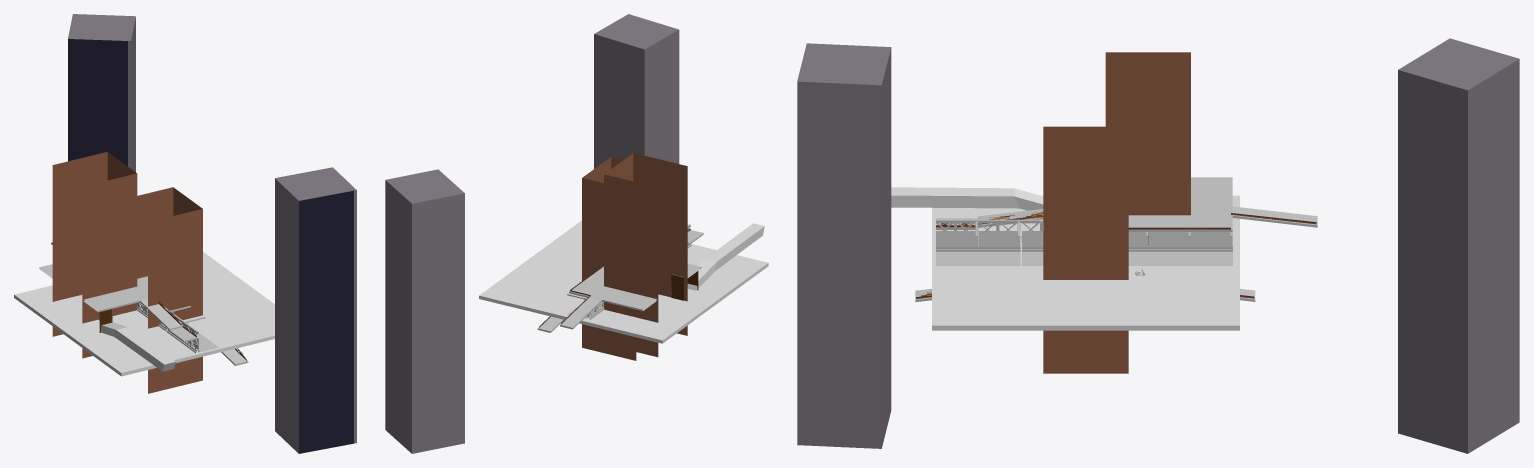
Rendered from bridgepiece.fbx.
3 renders of one model, left to right at view 1: azimuth 30°, elevation 25°; view 2: azimuth 150°, elevation 25°; view 3: azimuth 270°, elevation 25°, orthographic. The views are drawn at different scales.
Visible parts, largest first — view 1: Cube.018, Cube.020, Cube.019, Cube.011, Cube.017, Cube.003, path.009, path.008; view 2: Cube.011, Cube.020, Cube.018, Cube.019, Cube.017, path.009, Cube.003, path.007, Cube; view 3: Cube.011, Cube.018, Cube.019, Cube.017, Cube.020, path.009, Cube.003, path.007, road.005, road.006, road.003, road.002 (+3 smaller).
Boxes of the visible parts, bbox=[...] form: Cube.018: bbox=[275, 167, 356, 453]; Cube.020: bbox=[52, 152, 137, 358]; Cube.019: bbox=[14, 252, 274, 376]; Cube.011: bbox=[68, 14, 135, 172]; Cube.017: bbox=[137, 187, 202, 393]; Cube.003: bbox=[100, 322, 175, 371]; path.009: bbox=[39, 264, 147, 312]; path.008: bbox=[140, 298, 182, 330]; Cube.011: bbox=[385, 169, 464, 453]; Cube.020: bbox=[604, 153, 687, 357]; Cube.018: bbox=[594, 14, 679, 168]; Cube.019: bbox=[479, 220, 768, 343]; Cube.017: bbox=[582, 156, 636, 360]; path.009: bbox=[569, 263, 701, 311]; Cube.003: bbox=[687, 223, 764, 290]; path.007: bbox=[560, 297, 601, 329]; Cube: bbox=[671, 271, 698, 300]; Cube.011: bbox=[1398, 38, 1519, 453]; Cube.018: bbox=[797, 43, 891, 448]; Cube.019: bbox=[932, 195, 1239, 330]; Cube.017: bbox=[1043, 126, 1128, 373]; Cube.020: bbox=[1105, 52, 1190, 245]; path.009: bbox=[1128, 177, 1232, 231]; Cube.003: bbox=[891, 187, 1043, 210]; path.007: bbox=[1232, 206, 1317, 227]; road.005: bbox=[978, 246, 1020, 265]; road.006: bbox=[936, 246, 978, 265]; road.003: bbox=[1190, 246, 1232, 265]; road.002: bbox=[1149, 247, 1191, 265].
Size of the model in its own units: 12418 by 14926 by 26888.
